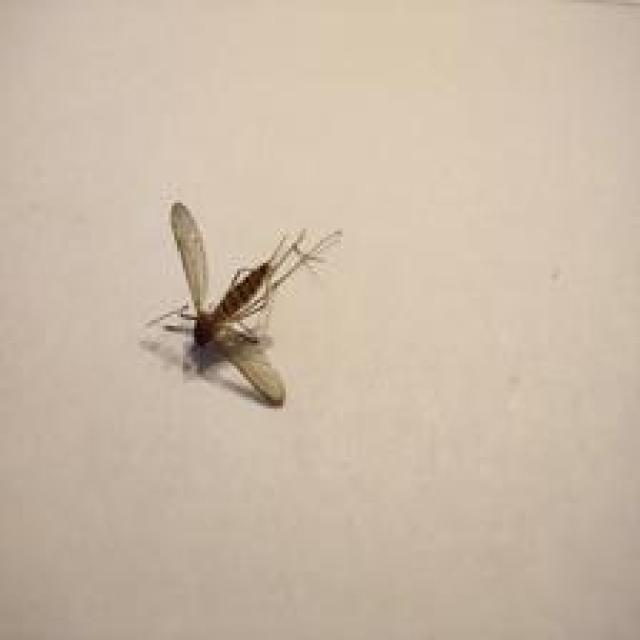Culex: (143, 200, 343, 409)
